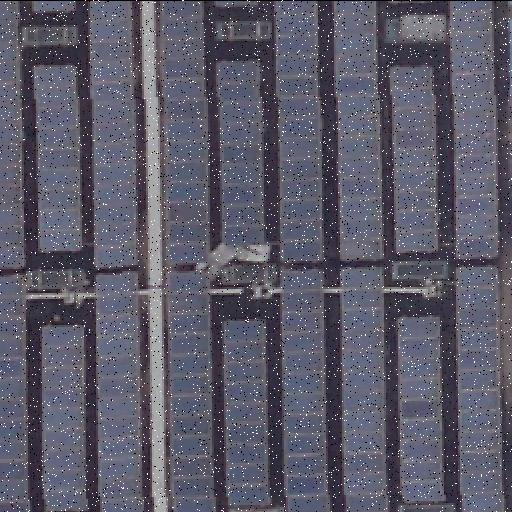solar-panel: (333, 1, 387, 263), (450, 0, 502, 260), (87, 0, 137, 268), (162, 0, 210, 264), (276, 1, 324, 263), (455, 265, 505, 511), (282, 268, 330, 512), (96, 272, 144, 512), (341, 265, 387, 511), (169, 272, 215, 512), (391, 65, 441, 255), (35, 61, 85, 251), (218, 60, 266, 244), (401, 316, 447, 504), (41, 324, 87, 512), (225, 319, 271, 505), (1, 272, 31, 512), (0, 0, 26, 268), (32, 1, 76, 15), (215, 0, 257, 8), (388, 0, 432, 4)
